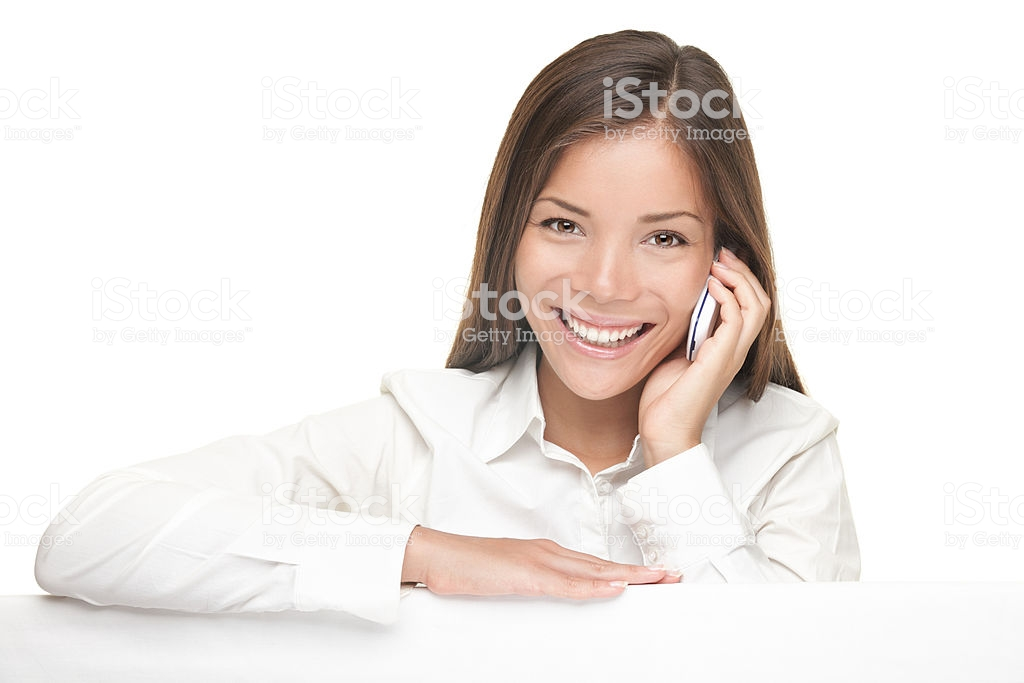phone: (680, 232, 772, 379)
talk: (515, 199, 781, 447)
